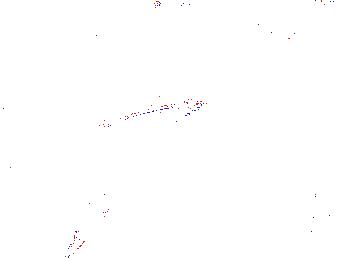X-ray fish: (66, 194, 92, 222)
glassfish: (87, 98, 209, 148), (68, 168, 130, 258)
red belly glassfish: (256, 20, 301, 39)
redtail glassfish: (152, 1, 194, 13)
